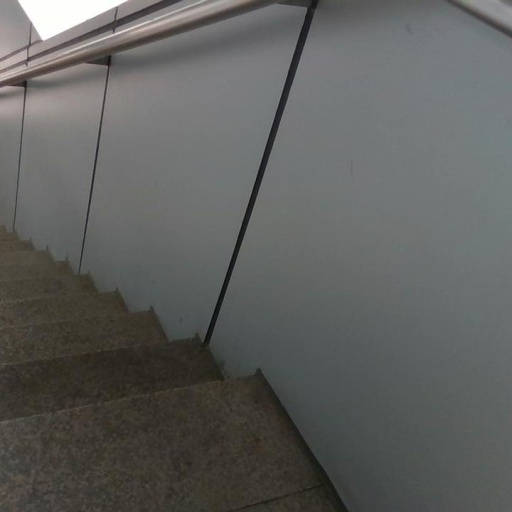Stairs: (0, 228, 347, 512)
